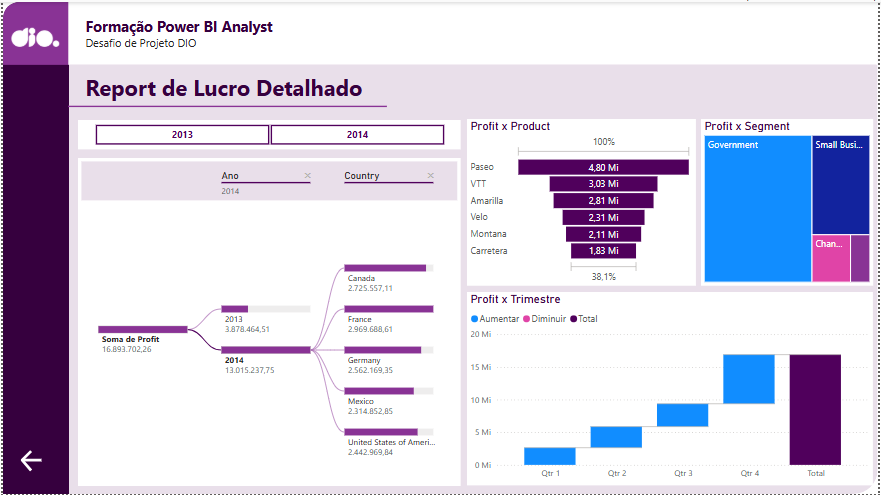

The page's visual inventory and layout, read from the dashboard file:
{"tool":"powerbi","page":{"name":"Profit","canvas":[1280,720],"ordinal":1},"visuals":[{"type":"shape","box":[0,0,1280,720],"z":0},{"type":"shape","box":[0,0,96.7,720],"z":1000},{"type":"waterfallChart","title":"Profit x Trimestre","fields":{"Y":["Sum(financials.Profit)"],"Category":["financials.Date.Variation.Hierarquia de datas.Trimestre"]},"box":[679.2,425,593.8,283.3],"z":2000},{"type":"treemap","title":"Profit x Segment","fields":{"Values":["Sum(financials.Profit)"],"Group":["financials.Segment"]},"box":[1020.8,171.9,252.1,243.8],"z":3000},{"type":"decompositionTreeVisual","fields":{"ExplainBy":["financials.Date.Variation.Hierarquia de datas.Ano","financials.Country"],"Analyze":["Sum(financials.Profit)"]},"box":[110,228.3,560,480],"z":4000},{"type":"funnel","title":"Profit x Product","fields":{"Category":["financials.Product"],"Y":["Sum(financials.Profit)"]},"box":[679,171.6,334.6,244.4],"z":5000},{"type":"shape","box":[95,0,1185,91.7],"z":6000},{"type":"shape","box":[94.4,133.2,466.7,39.2],"z":6000,"group":"g1"},{"type":"textbox","box":[115.2,98.1,441.2,56.9],"z":7000,"group":"g1"},{"type":"slicer","fields":{"Values":["financials.Date.Variation.Hierarquia de datas.Ano"]},"box":[110,173.3,560,43.3],"z":7000},{"type":"group","id":"g1","title":"Grupo 1","box":[94.4,98.1,466.7,74.4],"z":8000},{"type":"shape","box":[0,0,96.1,92.2],"z":9000},{"type":"textbox","box":[115.7,15.7,354.9,60.8],"z":10000},{"type":"image","box":[8,12,80,80],"z":11000},{"type":"actionButton","box":[21.3,651.1,53.2,40.4],"z":12000}]}

Visuals, with their boxes on the page's 1280x720 design canvas (x1, y1, x2, y2). These are canvas units, not pixel positions in the 881x495 screenshot, which may show the page scaled, cropped or inside an application window:
shape: 0:0:1280:720
shape: 0:0:97:720
"Profit x Trimestre" waterfallChart: 679:425:1273:708
"Profit x Segment" treemap: 1021:172:1273:416
decompositionTreeVisual - financials.Date.Variation.Hierarquia de datas.Ano x financials.Country: 110:228:670:708
"Profit x Product" funnel: 679:172:1014:416
shape: 95:0:1280:92
shape: 94:133:561:172
textbox: 115:98:556:155
slicer - financials.Date.Variation.Hierarquia de datas.Ano: 110:173:670:217
"Grupo 1" group: 94:98:561:172
shape: 0:0:96:92
textbox: 116:16:471:76
image: 8:12:88:92
actionButton: 21:651:74:692
